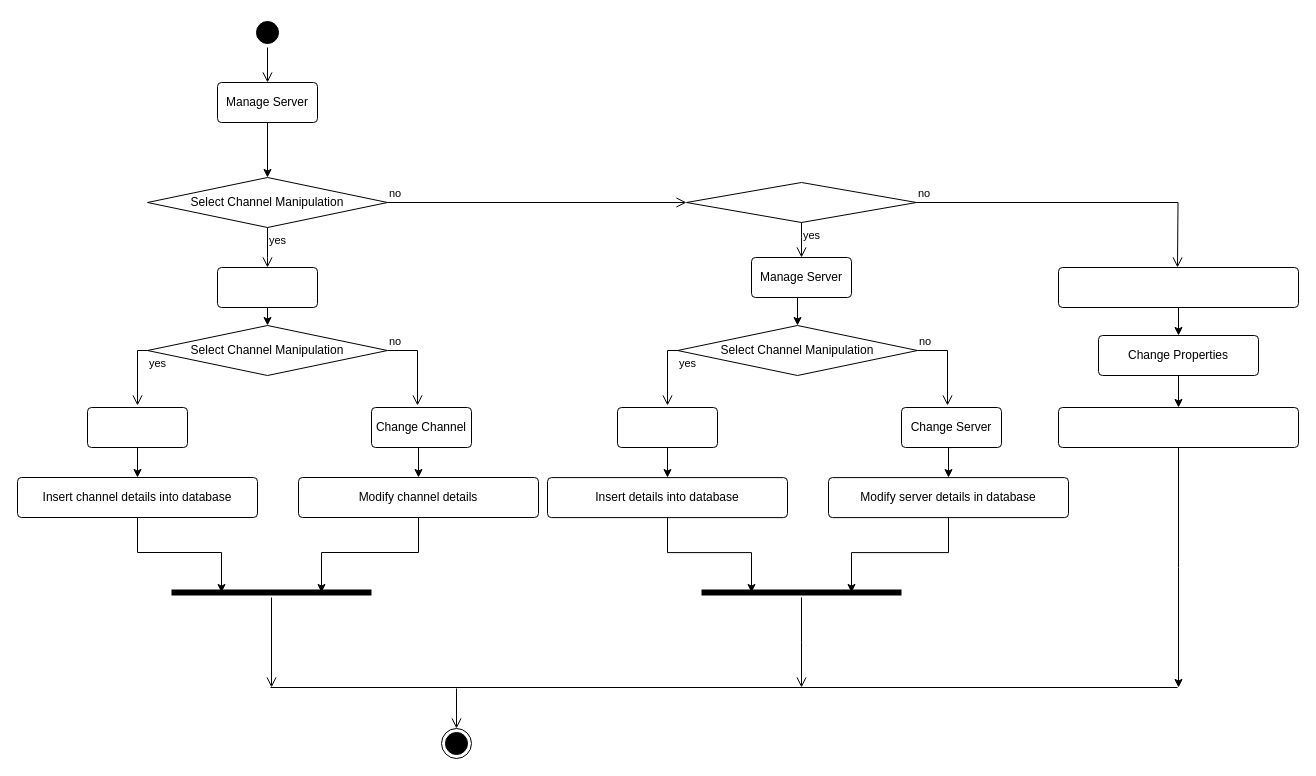
Some shapes in this 1316 by 776 pixel diagram are drawn without their labels. Here are the shapes that lost their labels. From the top down, the centre of each, then its label:
At [801,202]: "Select Server Manipulation?".
At [267,287]: "Manage Channel".
At [1178,287]: "Modify Server Settings".
At [137,427]: "Create Channel".
At [667,427]: "Create New Server".
At [1178,427]: "Modify Server properties in database".
